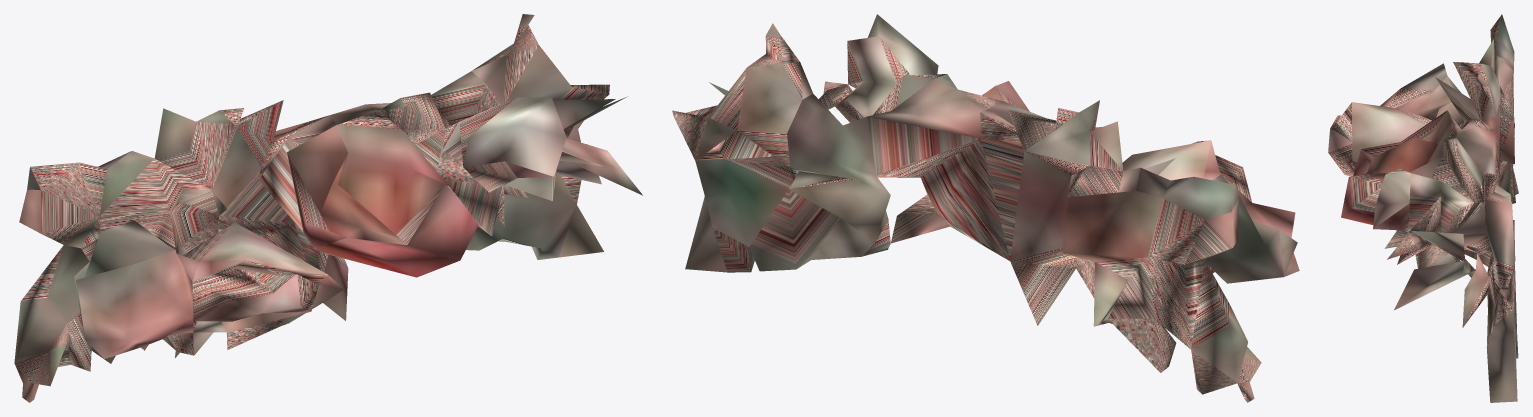
3 views of the same model, side by side, from view 1: azimuth 30°, elevation 25°; view 2: azimuth 150°, elevation 25°; view 3: azimuth 270°, elevation 25° (orthographic). The views are drawn at different scales.
Parts seen in each view (by area): view 1: Rose-Spray-10-22; view 2: Rose-Spray-10-22; view 3: Rose-Spray-10-22.
Boxes of the visible parts, x1,y1,x2,y2 form: Rose-Spray-10-22: (14, 14, 642, 402); Rose-Spray-10-22: (672, 14, 1299, 402); Rose-Spray-10-22: (1328, 14, 1518, 402).
Bounding box in the file's own units: 0.3119 × 0.1335 × 0.1097.
Materials: 1 (1 with a texture image).
